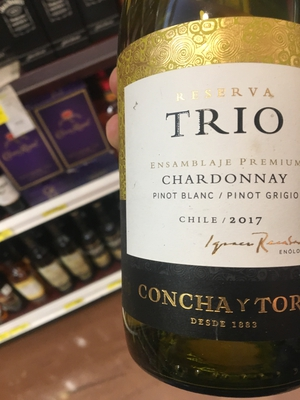trio chardonnay: (106, 18, 300, 373)
